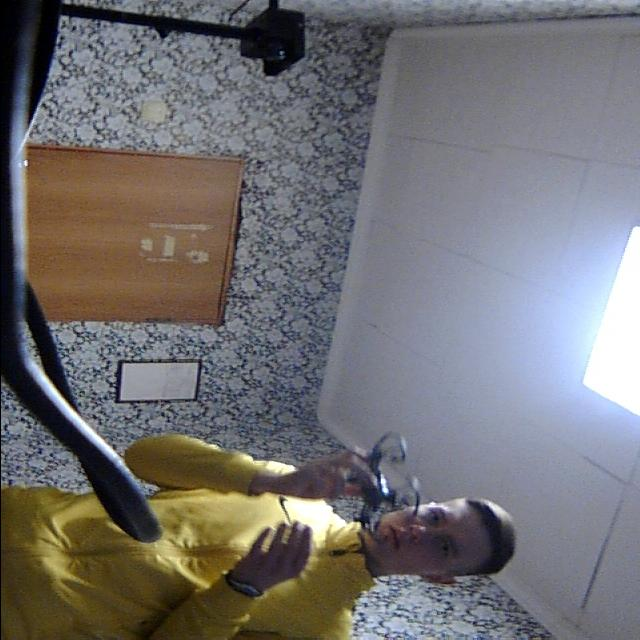drone: (340, 418, 424, 540)
